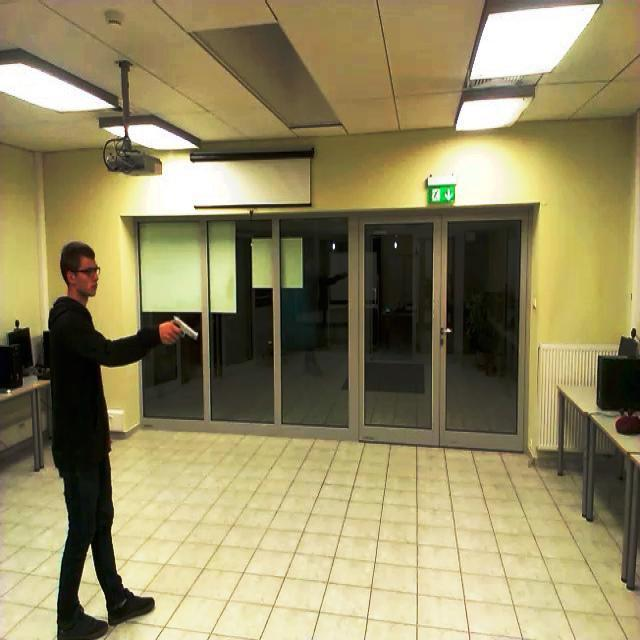Gun: (165, 311, 213, 353)
